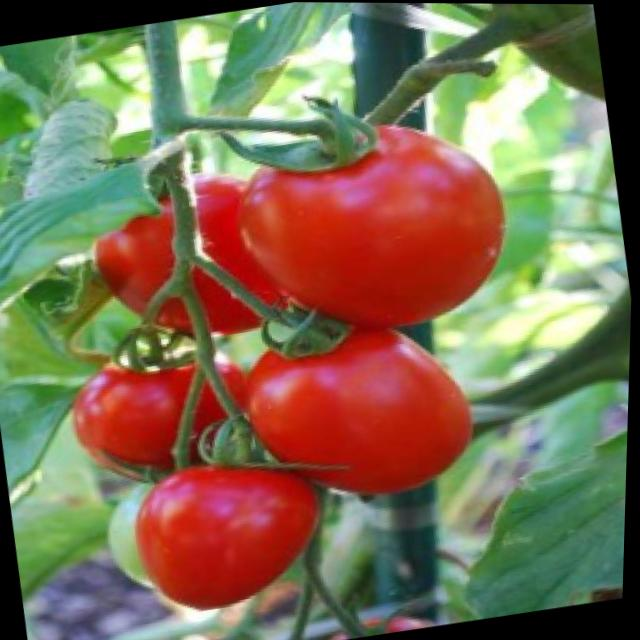tomato: (231, 107, 521, 349), (76, 126, 297, 355), (241, 310, 486, 507), (121, 448, 341, 626), (67, 346, 264, 492)
